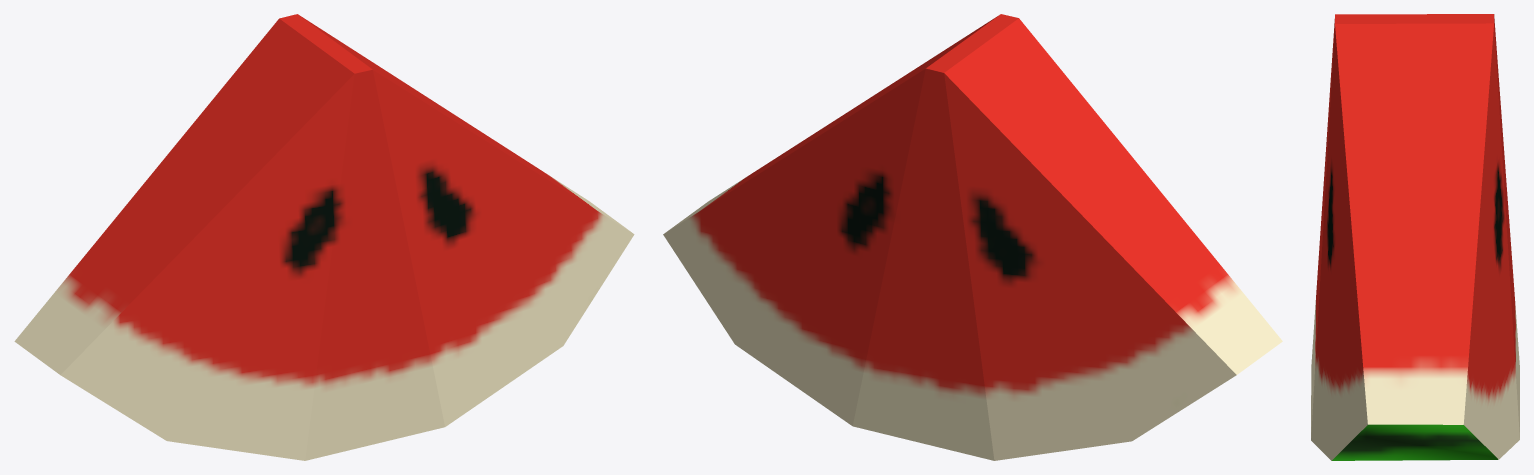
Rendered from watermelon_small.fbx.
3 renders of one model, left to right at view 1: azimuth 30°, elevation 25°; view 2: azimuth 150°, elevation 25°; view 3: azimuth 270°, elevation 25°, orthographic. The views are drawn at different scales.
Parts seen in each view (by area): view 1: watermelon_small; view 2: watermelon_small; view 3: watermelon_small.
Boxes of the visible parts, x1=… form: watermelon_small: x1=14, y1=14, x2=634, y2=460; watermelon_small: x1=663, y1=14, x2=1282, y2=460; watermelon_small: x1=1311, y1=14, x2=1519, y2=460.
Size of the model in its own units: 2.51 by 0.7462 by 1.52.
